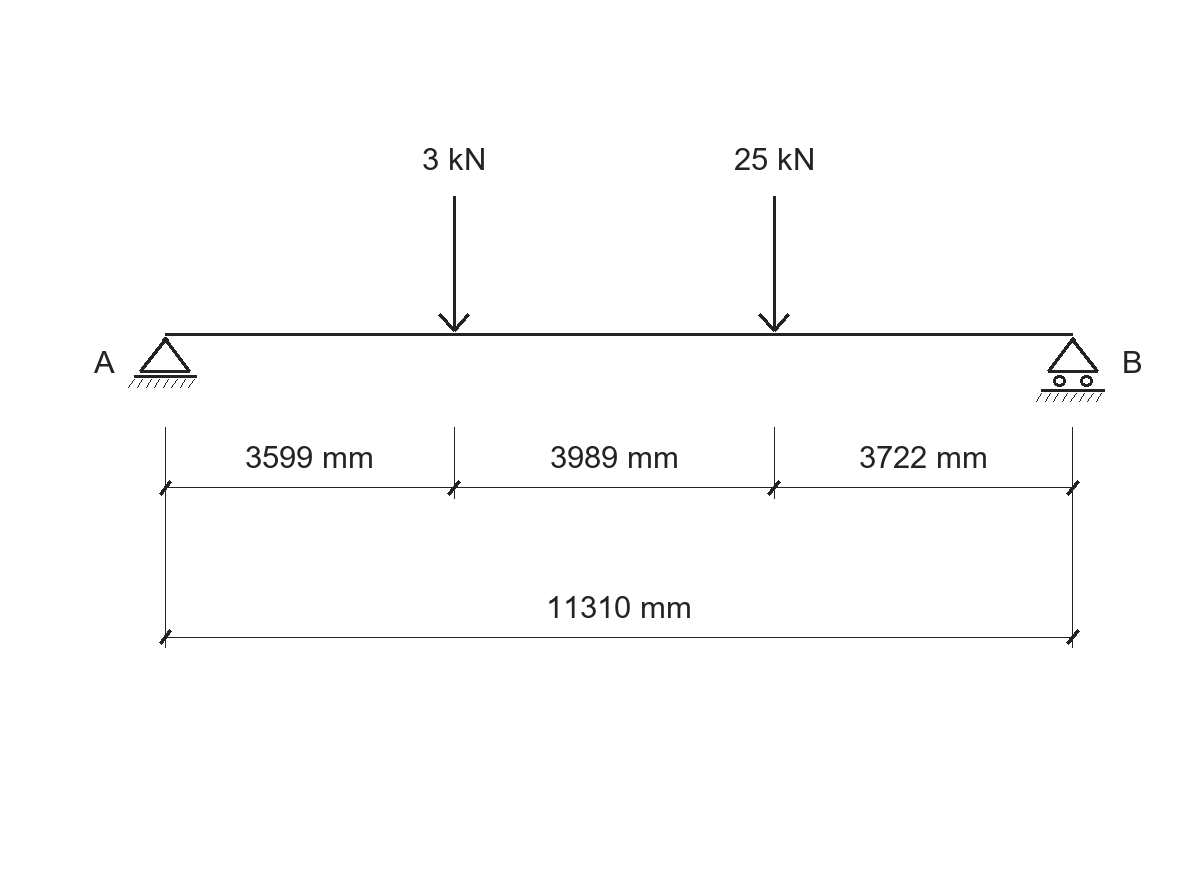pin_support: (128, 337, 197, 388)
point_load: (438, 196, 470, 332), (758, 196, 790, 332)
roller_support: (1036, 337, 1105, 402)
